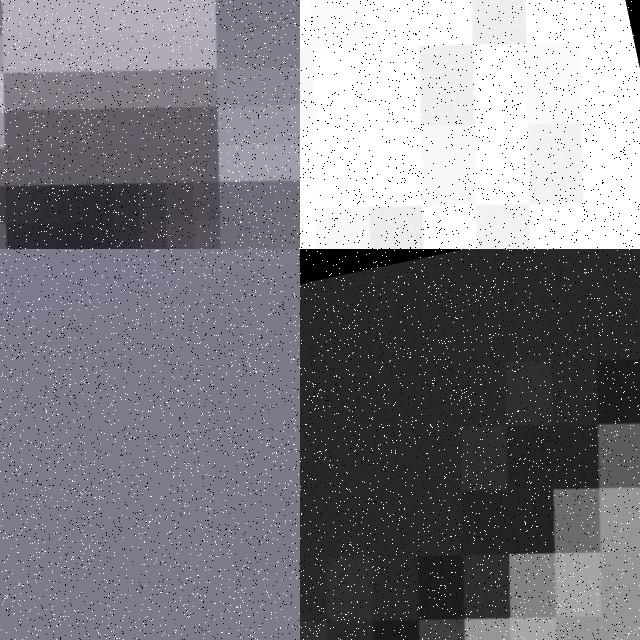0: (0, 0, 300, 249)
drone: (300, 249, 640, 640), (300, 0, 640, 249)
